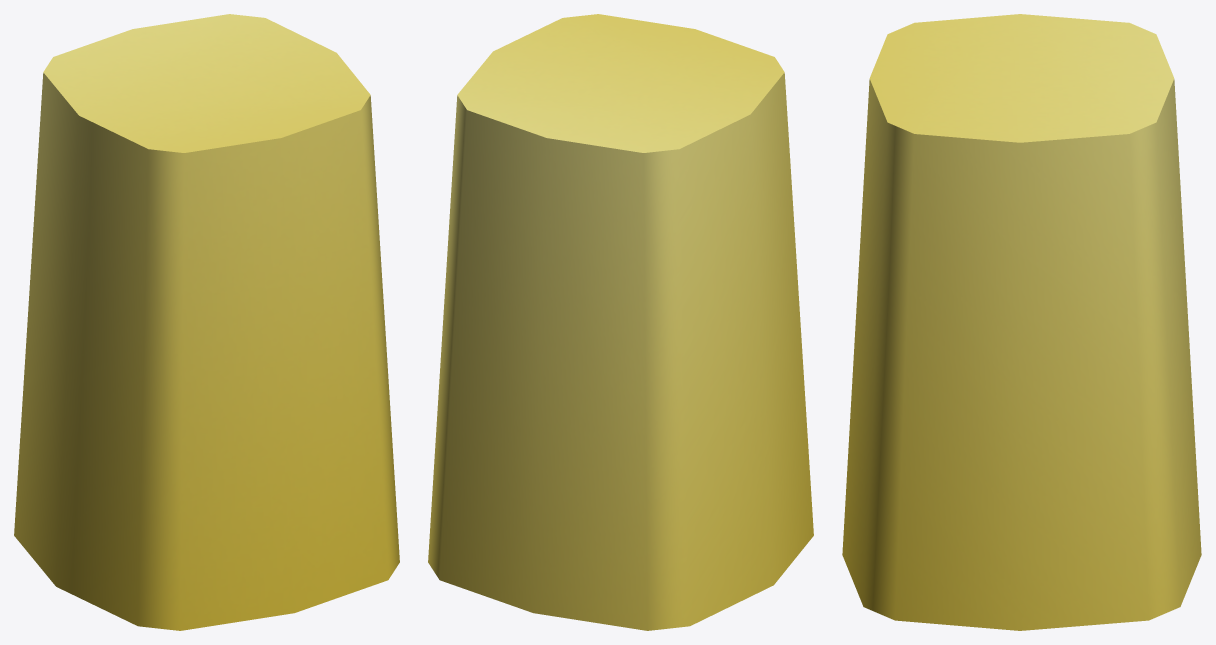
The model's file is glass_content_yellow.fbx.
The picture shows the model from 3 angles, left to right: view 1: azimuth 30°, elevation 25°; view 2: azimuth 150°, elevation 25°; view 3: azimuth 270°, elevation 25°; orthographic projection. The views are drawn at different scales.
Visible parts, largest first — view 1: glass_content_yellow; view 2: glass_content_yellow; view 3: glass_content_yellow.
Boxes of the visible parts, x1,y1,x2,y2 form: glass_content_yellow: (14,14,399,630); glass_content_yellow: (428,14,813,630); glass_content_yellow: (842,14,1201,630).
Bounding box in the file's own units: 13.53 × 19.81 × 13.53.
